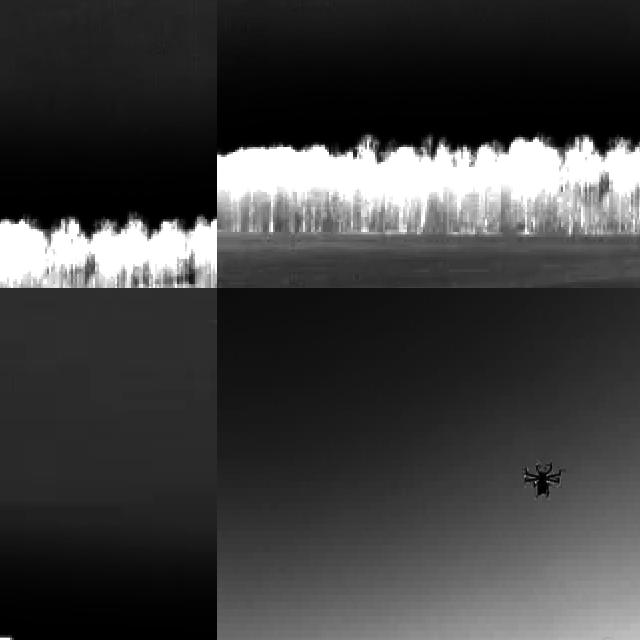0: (200, 310, 217, 337)
drone: (520, 459, 569, 507)
